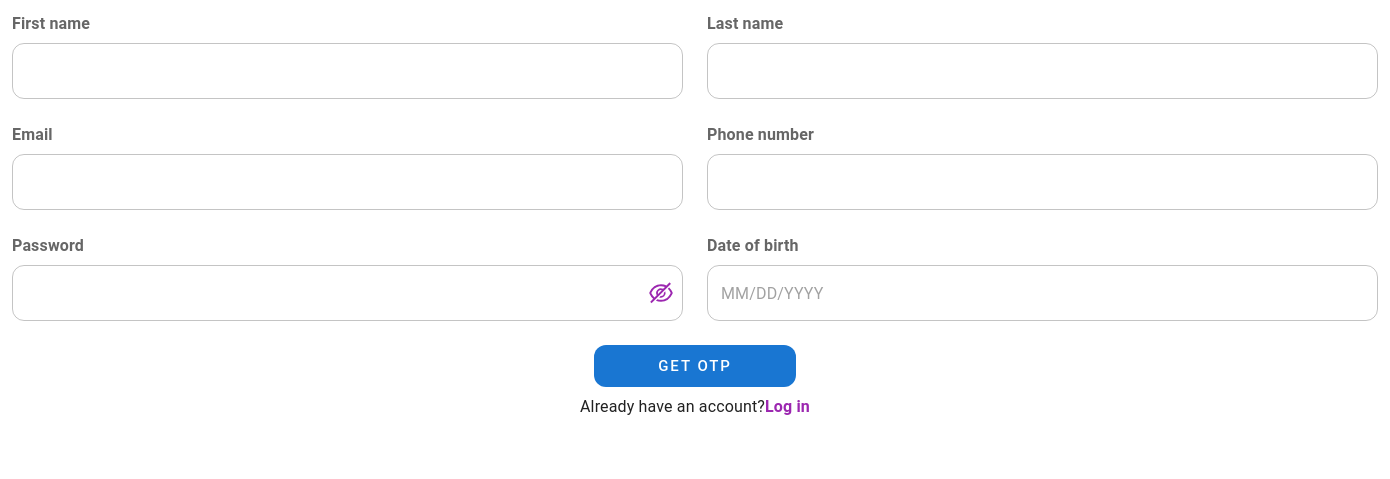
Test: AuthRegister (Registration) - Unit Tests › Submit › shows clear backend error message when registration request fails
The image size is (1390, 479).
Type "John" into the field labelled "First name". click: (348, 71)
box: [12,43,683,99]
Type "Doe" into the field labelled "Last name". click: (1042, 71)
box: [707,43,1378,99]
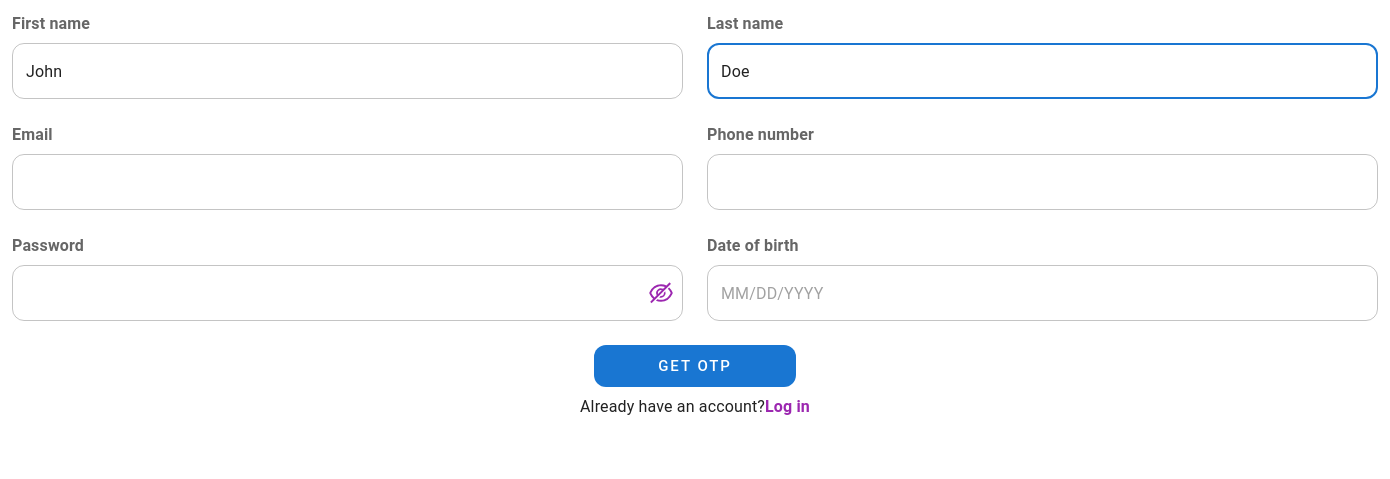
Type "john@example.com" into the field labelled "Email". click: (348, 182)
box: [12,154,683,210]
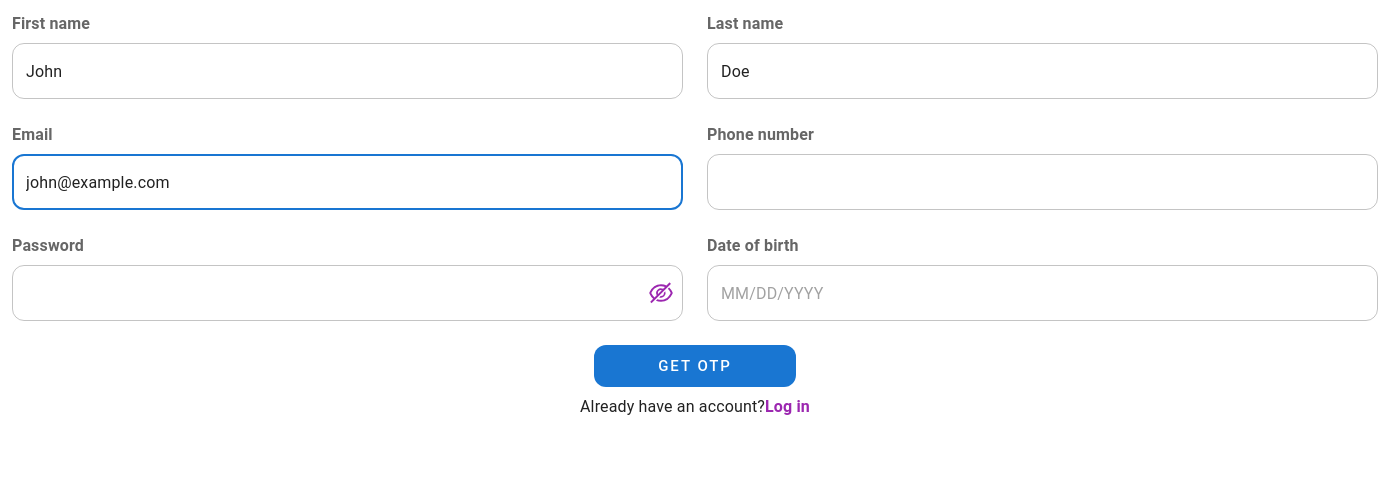
Type "+14155552671" into the field labelled "Phone number". click: (1042, 182)
box: [707,154,1378,210]
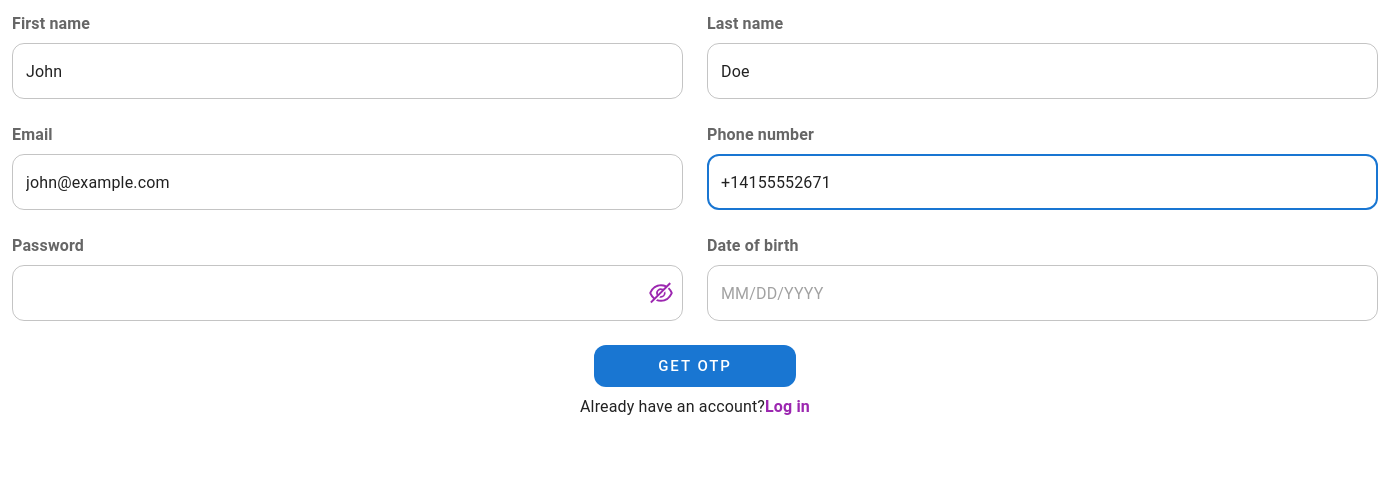
Type "StrongPassword1" into the password field labelled "Password". click: (322, 293)
box: [12,265,633,321]
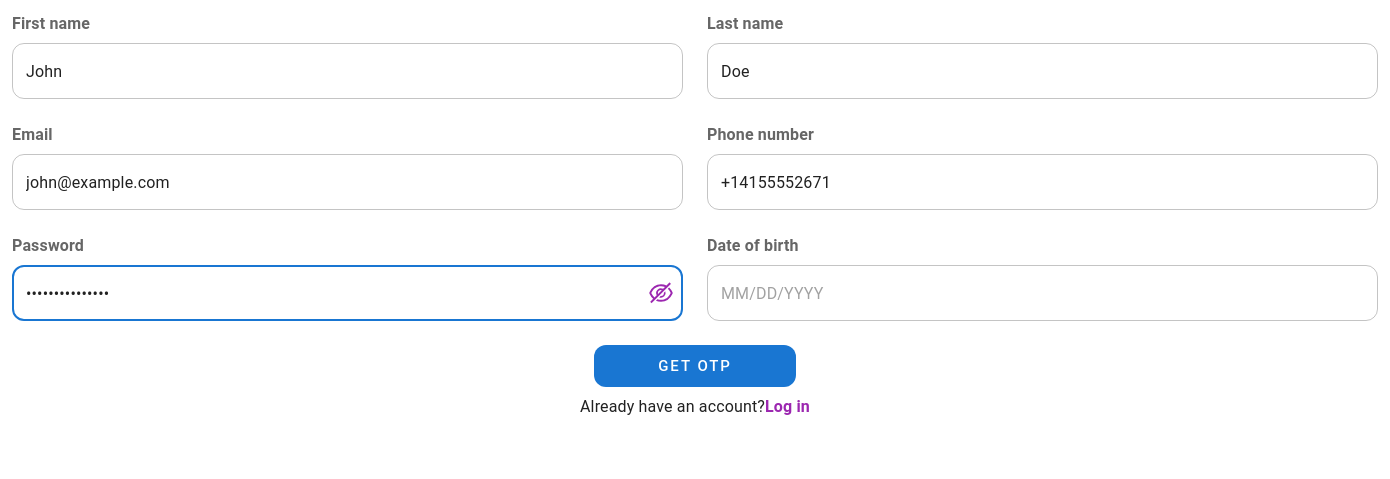
Type "01/01/2000" into the field labelled "Date of birth". click: (1042, 293)
box: [707,265,1378,321]
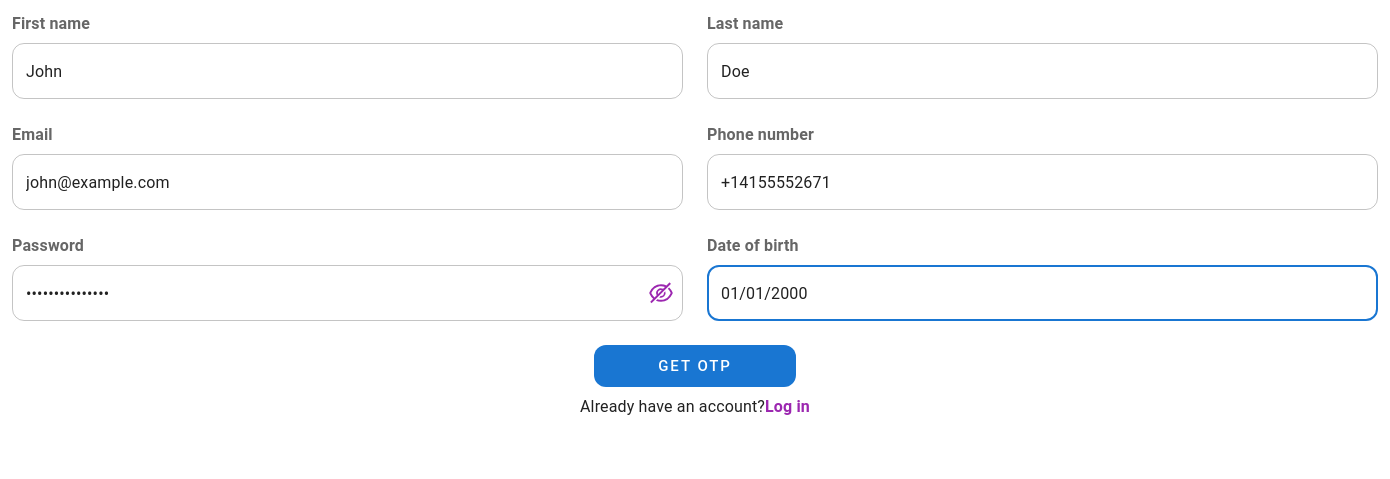
Click the button "Get OTP". click: (695, 366)
box: [594,345,796,387]
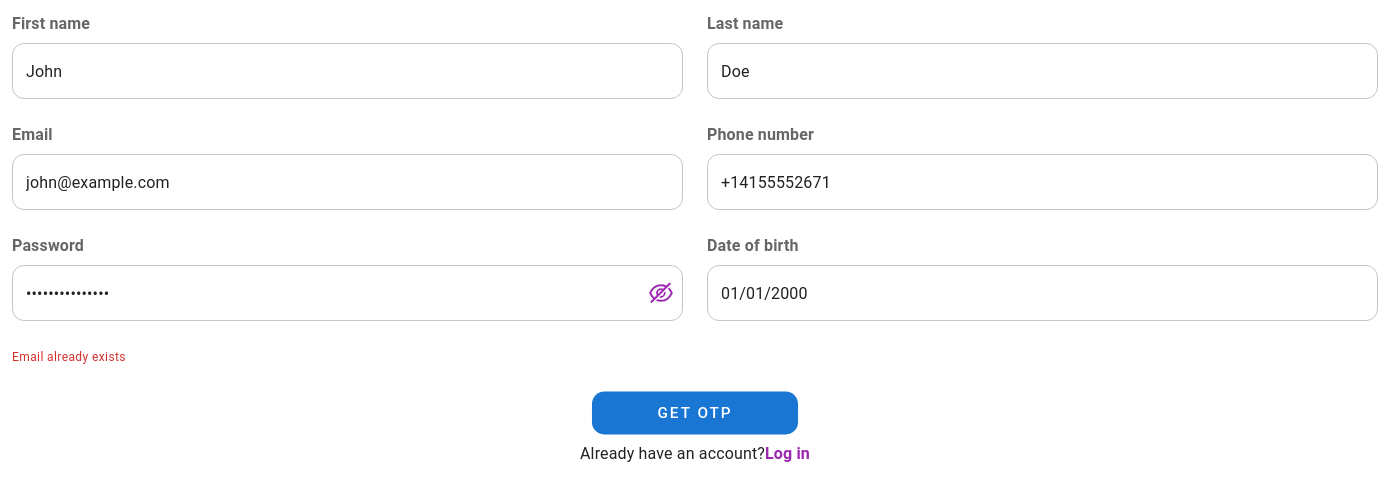
expect the text "Email already exists" is shown: met, box [12,350,126,364]
